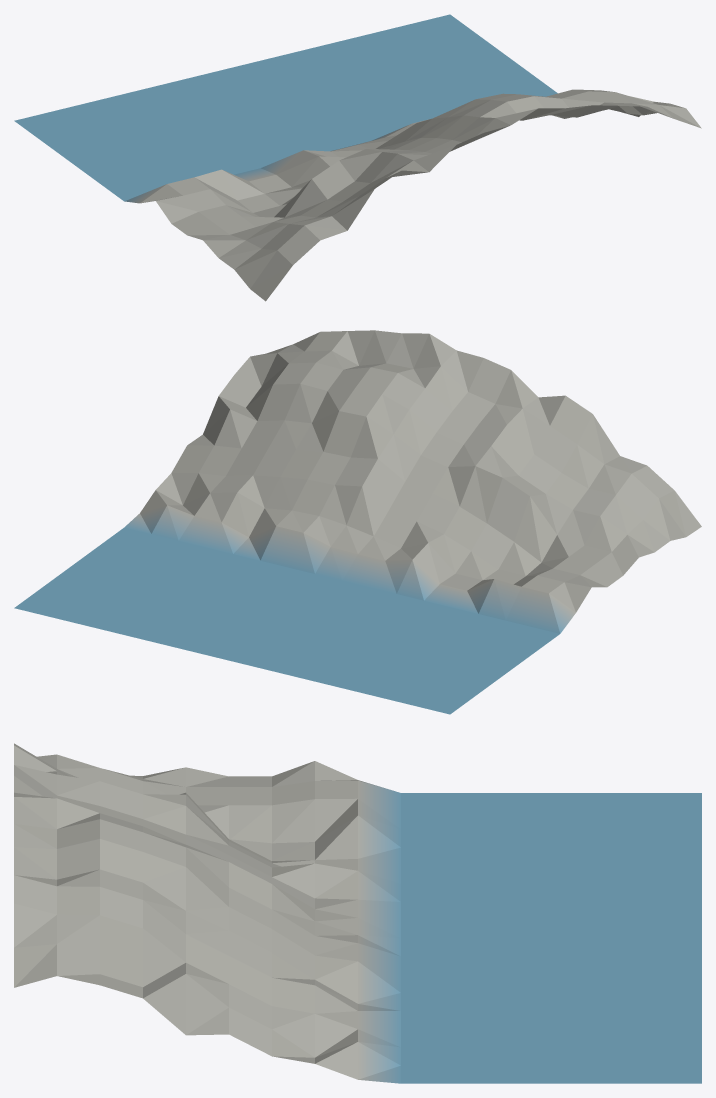
3 views of the same model, one above another, from view 1: azimuth 30°, elevation 25°; view 2: azimuth 150°, elevation 25°; view 3: azimuth 270°, elevation 25° (orthographic). The views are drawn at different scales.
Size of the model in its own units: 32 by 9.13 by 32.
